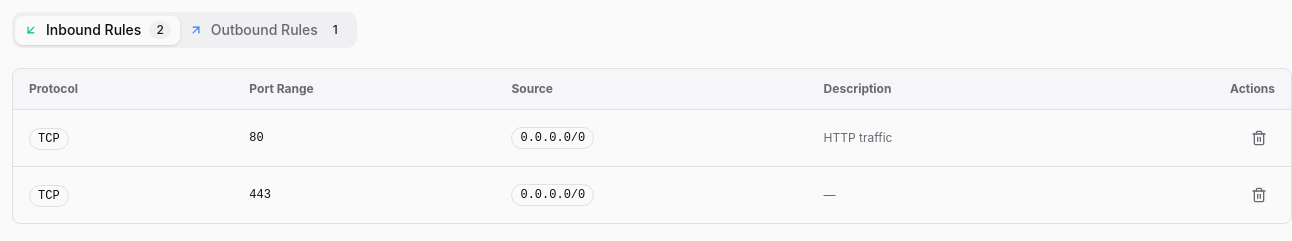
it: SecurityGroupRuleMatrix › switches to outbound rules tab
Click the tab "Outbound Rules 1" at (267, 30), box left=180, top=16, right=354, bottom=44
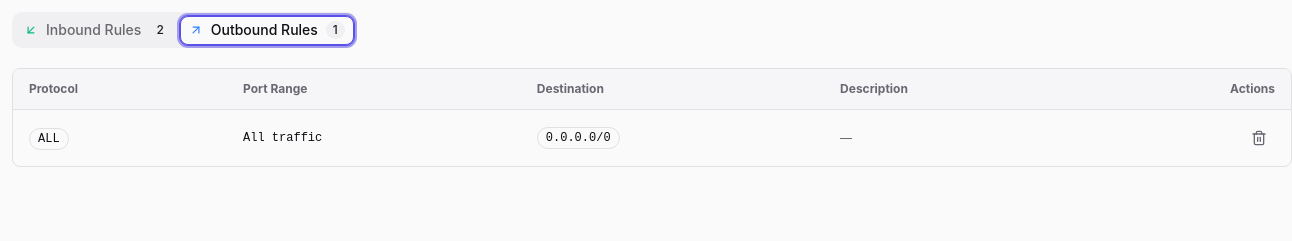
Expected: the text "All traffic" is shown, left=227, top=110, right=521, bottom=166
